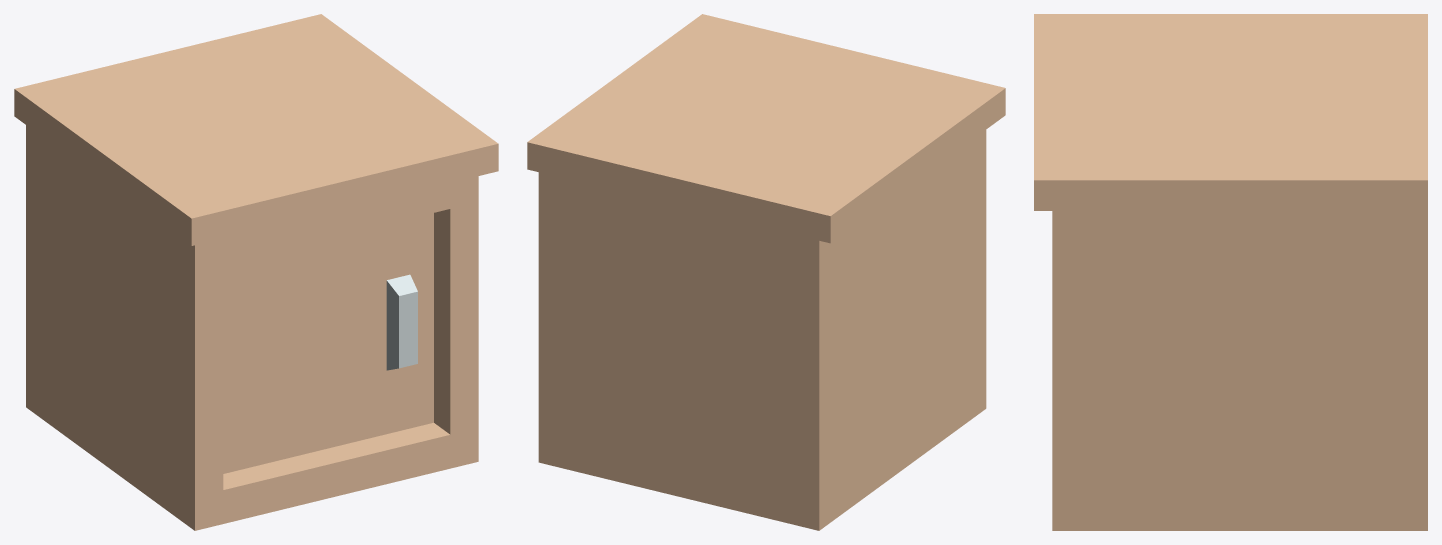
File: kn-cabinet-bed.glb
The picture shows the model from 3 angles, left to right: view 1: azimuth 30°, elevation 25°; view 2: azimuth 150°, elevation 25°; view 3: azimuth 270°, elevation 25°; orthographic projection. The views are drawn at different scales.
Parts seen in each view (by area): view 1: cabinetBed(Clone), door; view 2: cabinetBed(Clone); view 3: cabinetBed(Clone).
Boxes of the visible parts, box(x1,y1,x2,y2) form: cabinetBed(Clone): box(14, 14, 498, 530); door: box(386, 274, 417, 370); cabinetBed(Clone): box(527, 14, 1005, 530); cabinetBed(Clone): box(1034, 14, 1427, 530).
Size of the model in its own units: 1 by 1 by 1.
